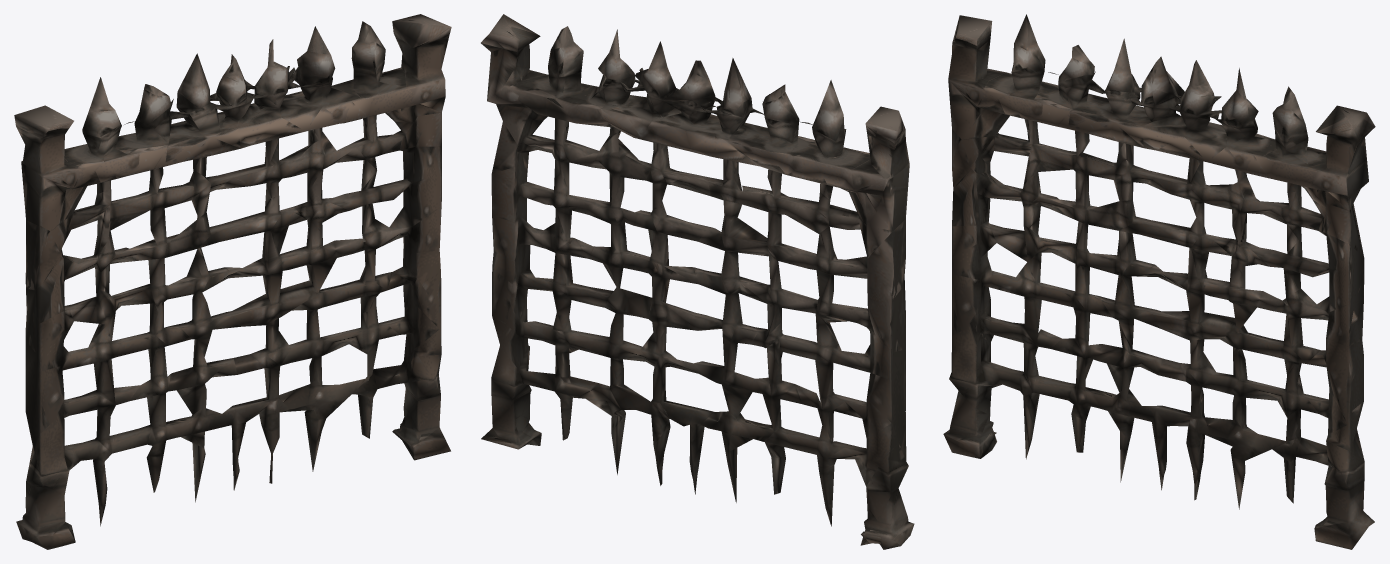
Rendered from iron_gate_closed.glb.
The picture shows the model from 3 angles, left to right: view 1: azimuth 30°, elevation 25°; view 2: azimuth 150°, elevation 25°; view 3: azimuth 330°, elevation 25°; orthographic projection.
Bounding box in the file's own units: 1.93 × 1.98 × 0.1885.
1 material, 1 textured.
